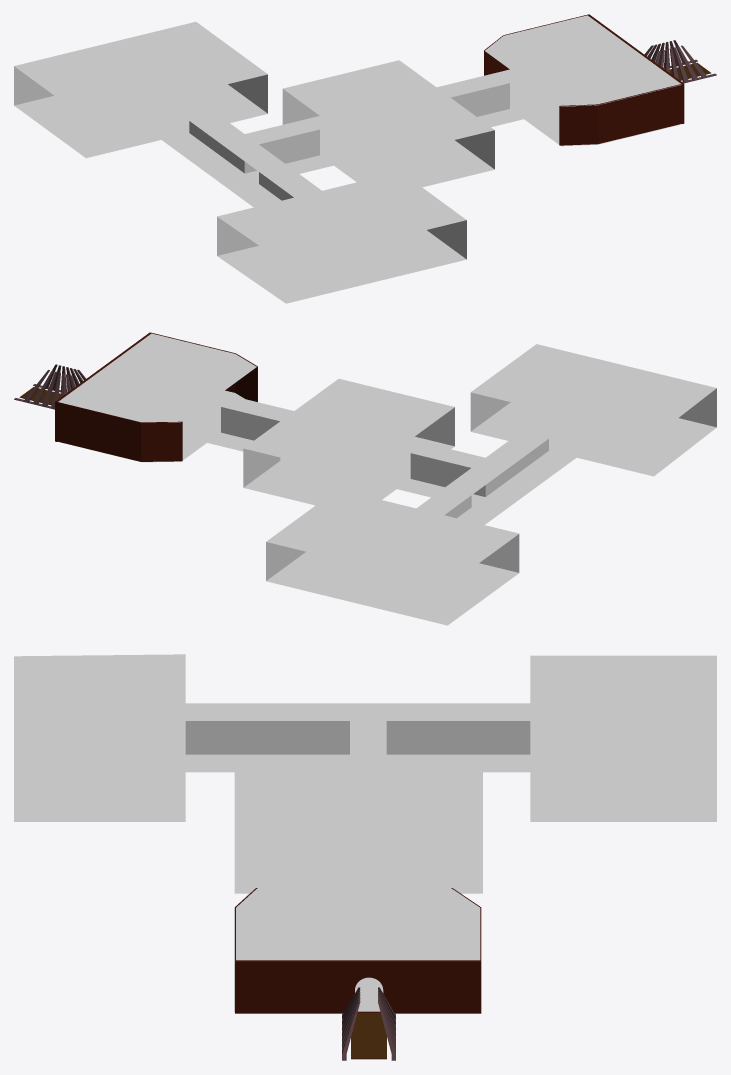
The model's file is curaduria0.glb.
3 renders of one model, top to bottom at view 1: azimuth 30°, elevation 25°; view 2: azimuth 150°, elevation 25°; view 3: azimuth 270°, elevation 25°, orthographic. The views are drawn at different scales.
Visible parts, largest first — view 1: Plano.002, Plano, Plano.001, Cubo.003, Cubo.001; view 2: Plano.002, Plano, Plano.001, Cubo.003, Cubo.001; view 3: Plano.002, Plano, Cubo.003, Plano.001, Cubo.001.
Part boxes in pixels (x1,y1,x2,y2): Plano.002: (14,15,681,263); Plano: (14,80,682,303); Plano.001: (14,66,509,259); Cubo.003: (484,14,684,145); Cubo.001: (644,40,716,83); Plano.002: (58,333,716,585); Plano: (59,390,716,625); Plano.001: (221,388,716,580); Cubo.003: (55,332,257,461); Cubo.001: (14,364,86,409); Plano.002: (14,654,716,960); Plano: (14,754,716,1012); Cubo.003: (235,888,481,1013); Plano.001: (185,721,530,754); Cubo.001: (342,987,395,1060).
Size of the model in its own units: 14.14 by 0.9649 by 11.85.
